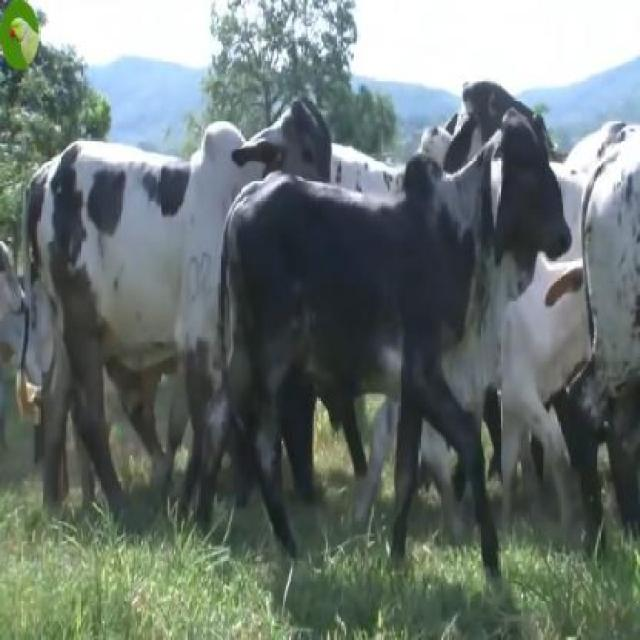Cow: (217, 111, 569, 558)
